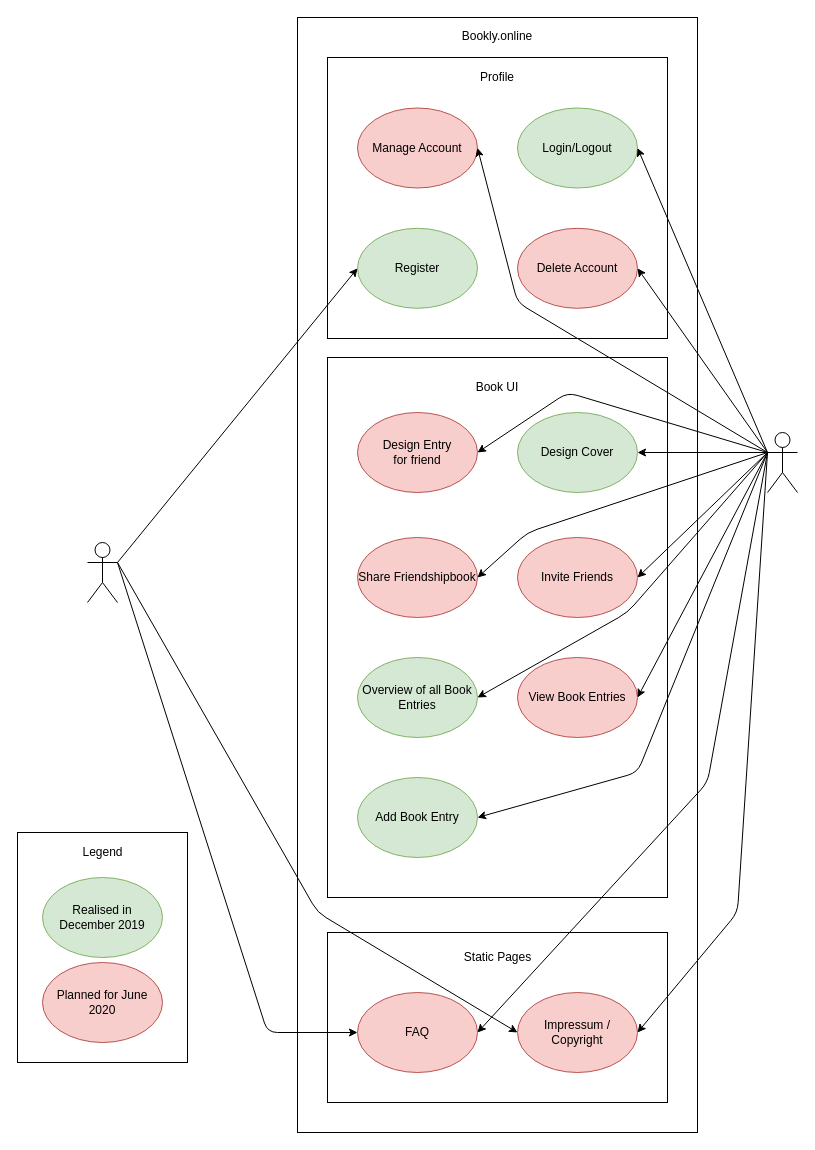
This 815x1150 diagram has some shape labels left out. Each missing label, with the centre of its shape:
"User" goes at (782,462).
"Visitor" goes at (102,572).
